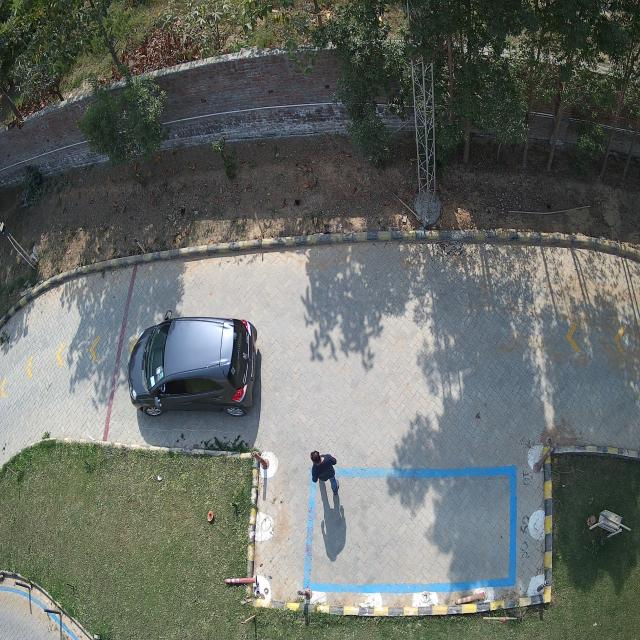car: (126, 312, 259, 417)
